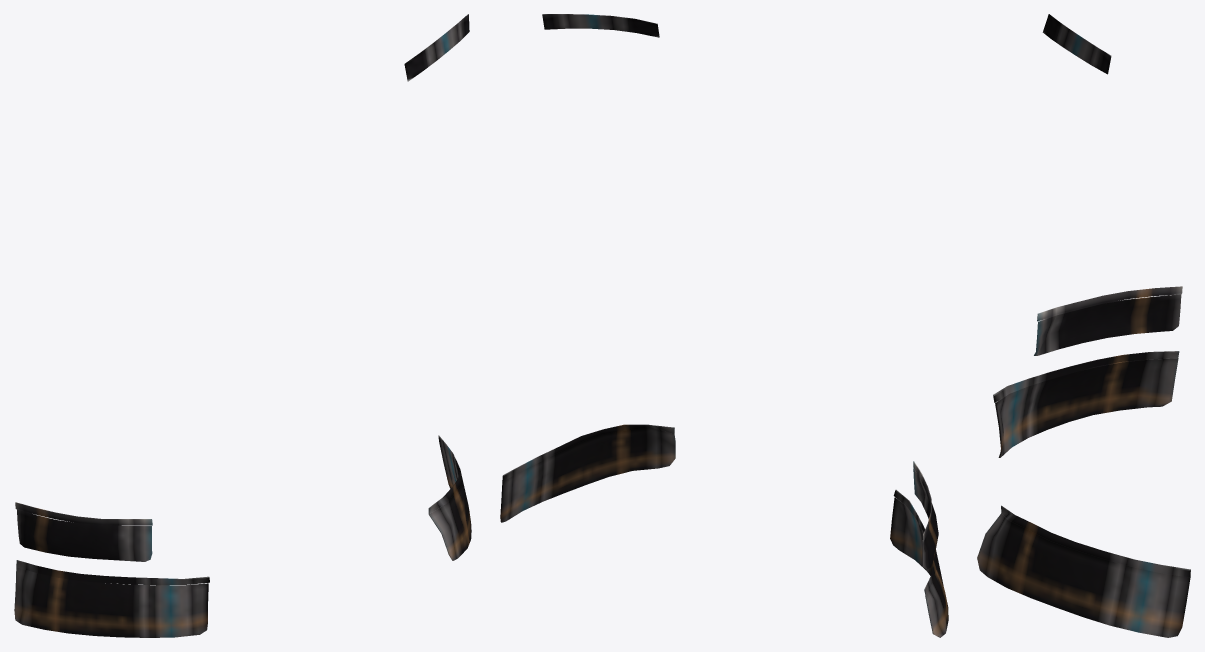
File: stdpocketwtsb.glb
3 renders of one model, left to right at view 1: azimuth 30°, elevation 25°; view 2: azimuth 150°, elevation 25°; view 3: azimuth 270°, elevation 25°, orthographic. The views are drawn at different scales.
Visible parts, largest first — view 1: pocket (×6); view 2: pocket (×5); view 3: pocket (×7).
Part boxes in pixels (<box>): pocket (×6): <box>14,14,471,637</box>; pocket (×5): <box>500,14,948,637</box>; pocket (×7): <box>977,14,1190,637</box>.
Size of the model in its own units: 351 by 391 by 128.
7 materials, 7 textured.
